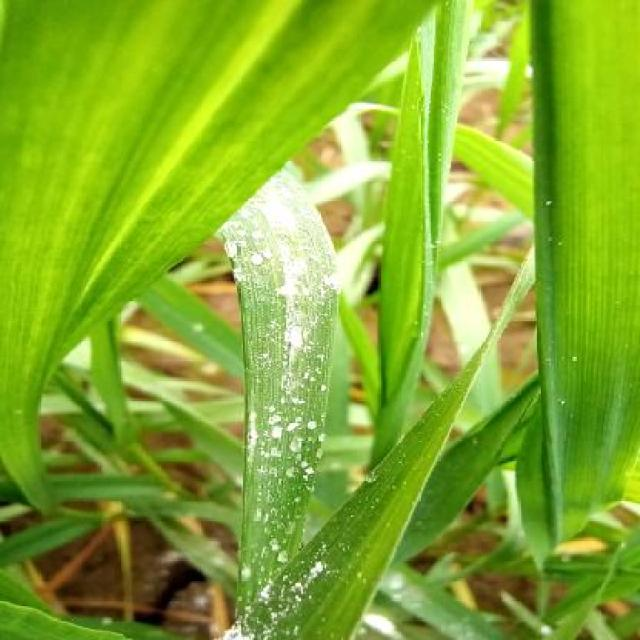Powdery Mildew: (219, 161, 373, 639)
